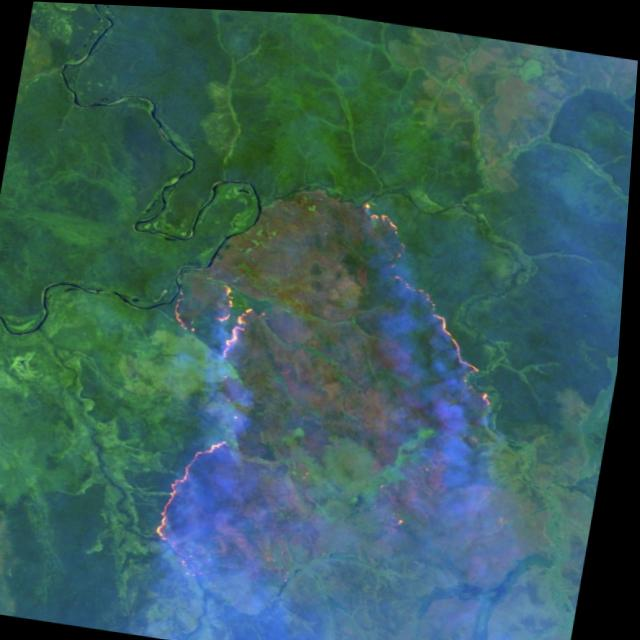fire: (120, 251, 288, 584), (330, 193, 536, 408)
